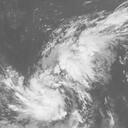cyclone: (26, 33, 105, 121)
